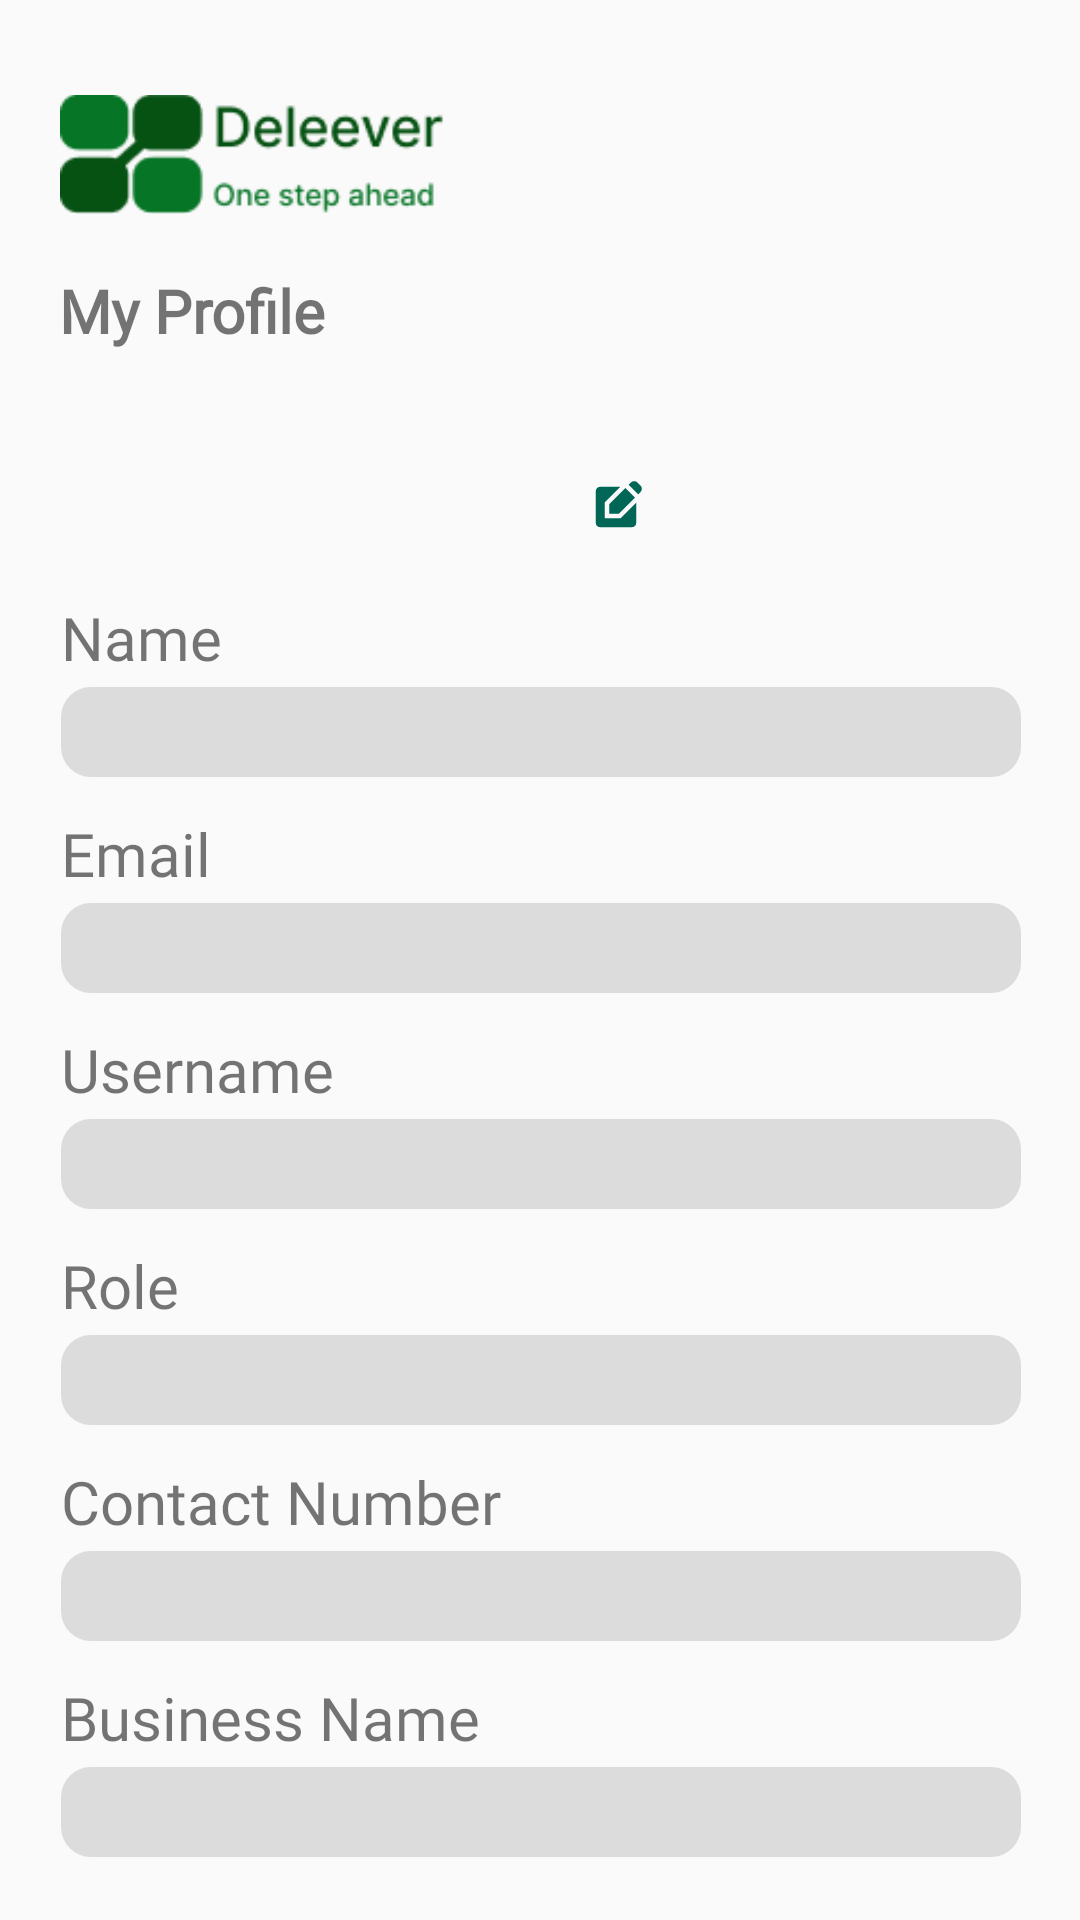

Where icons sit on this 1080px x 1920px app screen, as [x1, y1, x2, y2]:
edit profile photo: [595, 481, 642, 528]
